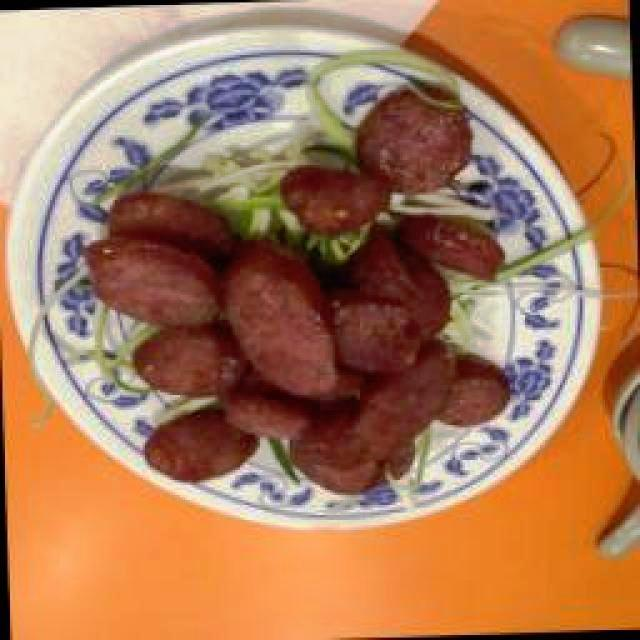chinese_sausage: (86, 82, 528, 496)
